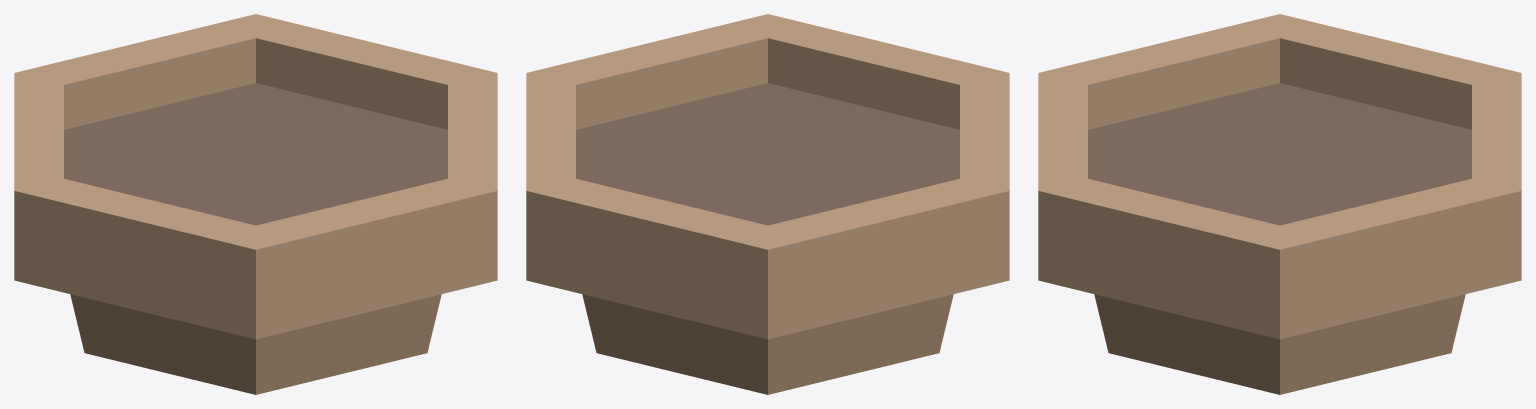
3 views of the same model, side by side, from view 1: azimuth 30°, elevation 25°; view 2: azimuth 150°, elevation 25°; view 3: azimuth 270°, elevation 25° (orthographic).
Parts seen in each view (by area): view 1: model; view 2: model; view 3: model.
Boxes of the visible parts, box(x1,y1,x2,y2) form: model: box(14, 14, 497, 394); model: box(526, 14, 1009, 394); model: box(1038, 14, 1521, 394).
Bounding box in the file's own units: 1.41 × 0.5 × 1.22.
